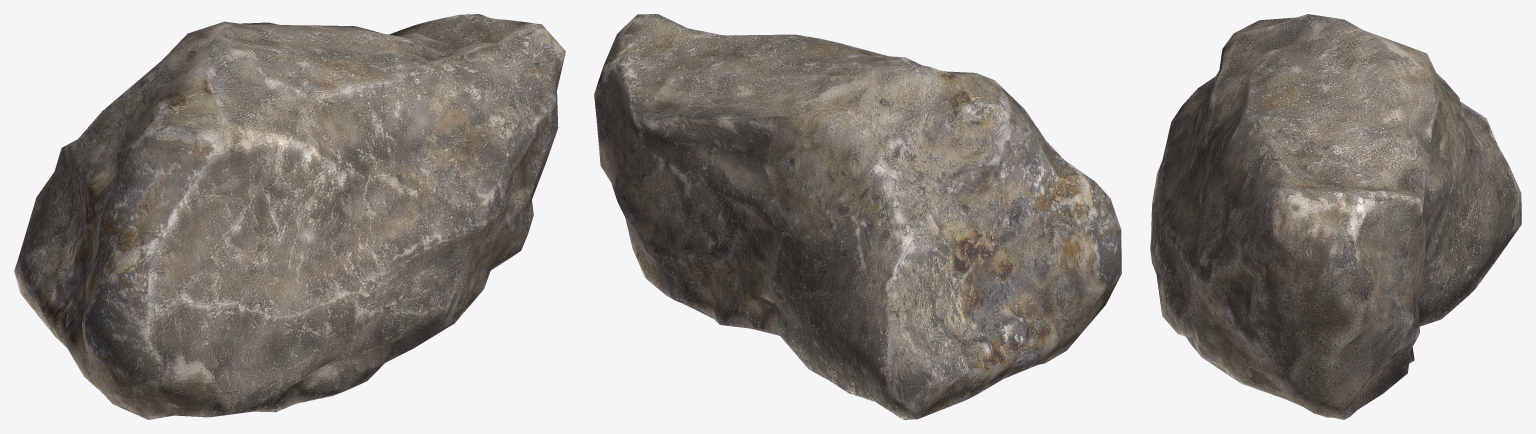
File: Rock.glb
3 renders of one model, left to right at view 1: azimuth 30°, elevation 25°; view 2: azimuth 150°, elevation 25°; view 3: azimuth 270°, elevation 25°, orthographic. The views are drawn at different scales.
Parts seen in each view (by area): view 1: rock; view 2: rock; view 3: rock.
Part boxes in pixels (<box>): rock: <box>14,14,565,419</box>; rock: <box>594,14,1121,419</box>; rock: <box>1150,14,1521,419</box>.
Size of the model in its own units: 10.03 by 5.89 by 6.75.
1 material, 1 textured.
